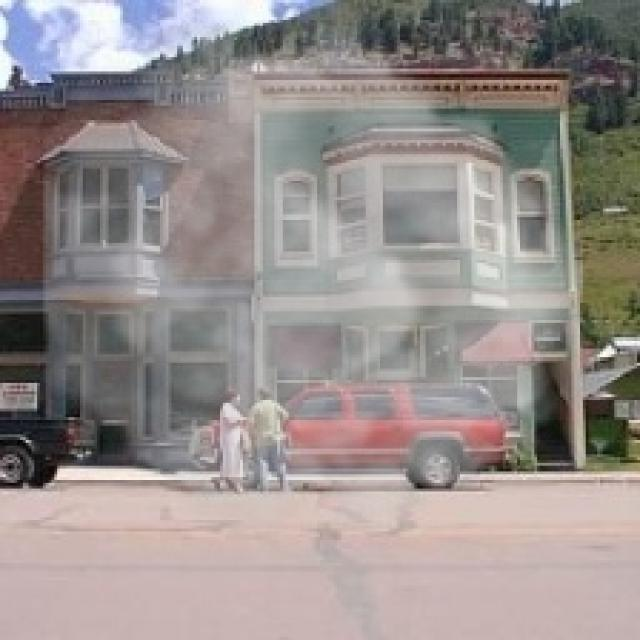Smoke: (43, 0, 584, 552)
